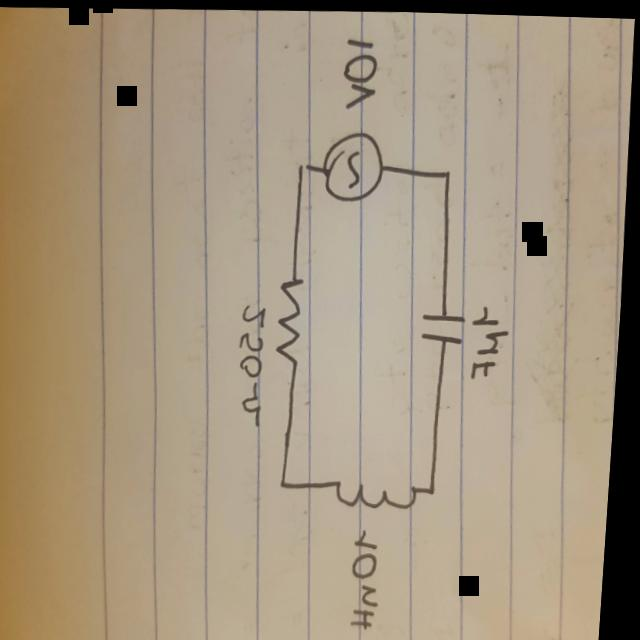capacitor: (417, 301, 477, 347)
inductor: (329, 469, 424, 509)
junction: (438, 163, 456, 179), (297, 157, 314, 173), (429, 477, 445, 493), (283, 472, 298, 489)
resistor: (275, 269, 316, 367)
source: (323, 123, 390, 202)
text: (237, 300, 277, 426), (352, 522, 396, 630), (337, 31, 382, 107), (473, 301, 517, 377)
